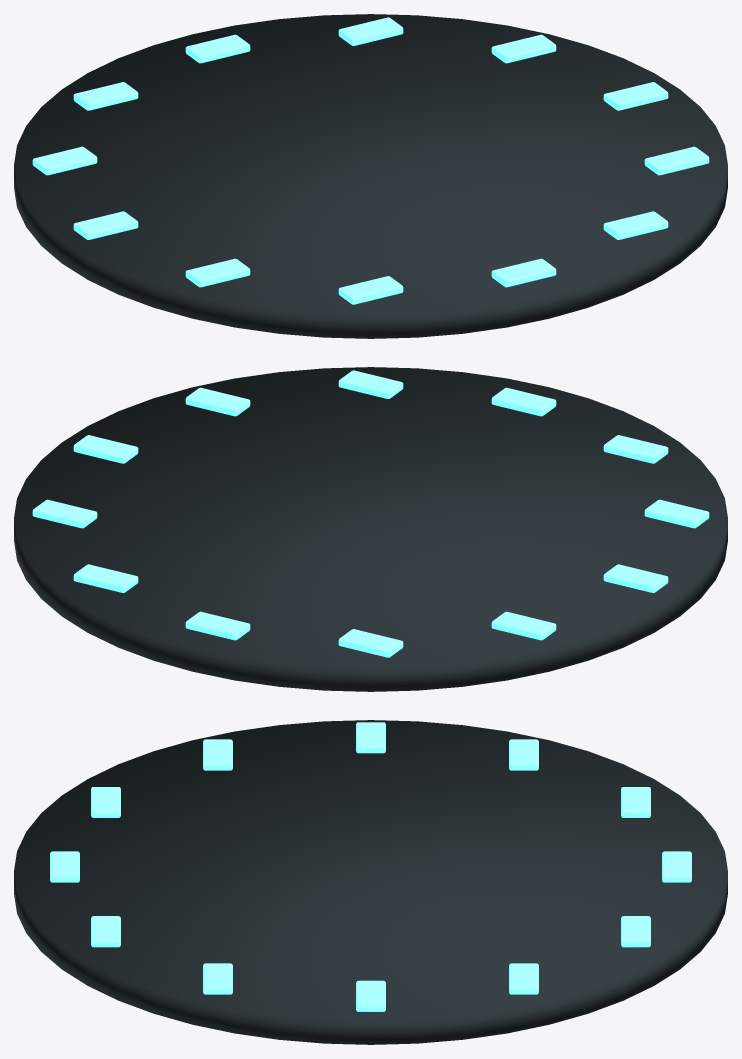
File: SM_FE_DockMarker.fbx
The picture shows the model from 3 angles, top to bottom: view 1: azimuth 30°, elevation 25°; view 2: azimuth 150°, elevation 25°; view 3: azimuth 270°, elevation 25°; orthographic projection.
Visible parts, largest first — view 1: SM_FE_DockMarker; view 2: SM_FE_DockMarker; view 3: SM_FE_DockMarker.
Boxes of the visible parts, x1,y1,x2,y2 form: SM_FE_DockMarker: (14,14,727,338); SM_FE_DockMarker: (14,367,727,691); SM_FE_DockMarker: (14,720,727,1044).
Size of the model in its own units: 84 by 84 by 4.
